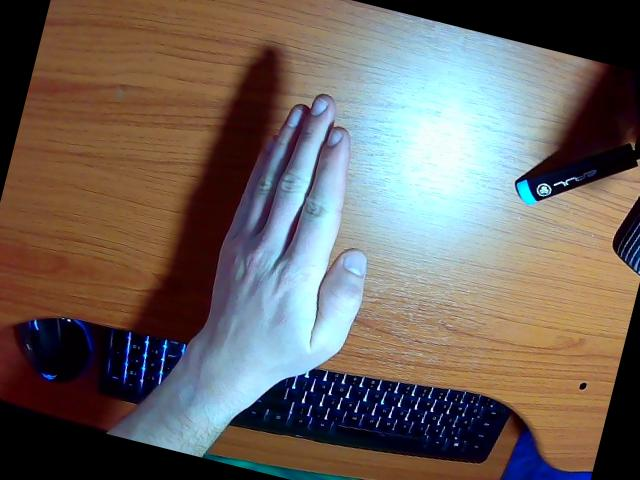paper: (111, 95, 367, 455)
